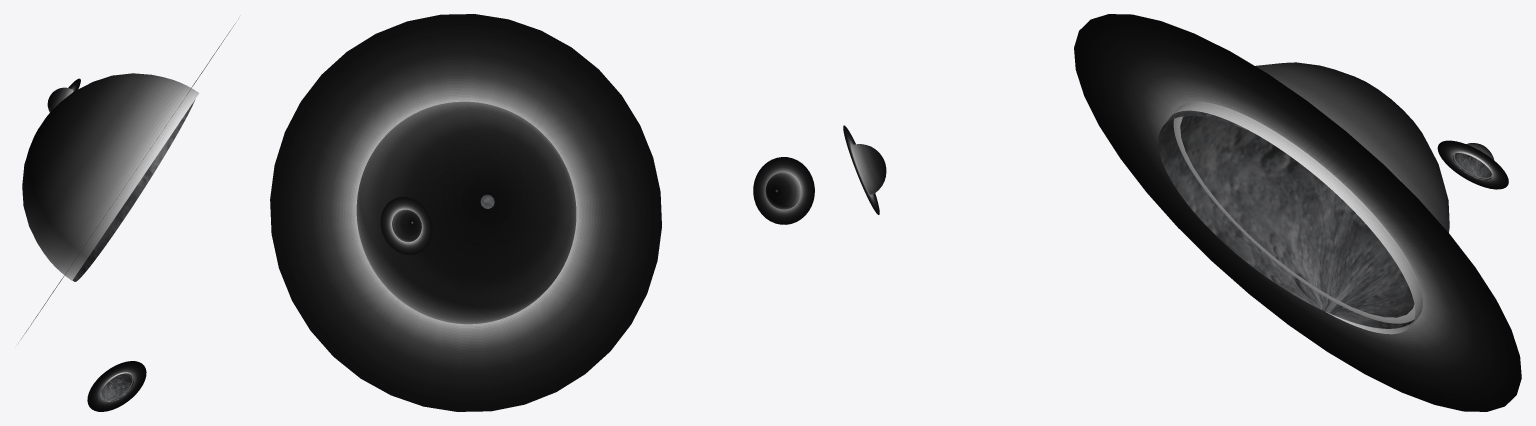
Rendered from env_space_coruscant_02_pre.glb.
The picture shows the model from 3 angles, left to right: view 1: azimuth 30°, elevation 25°; view 2: azimuth 150°, elevation 25°; view 3: azimuth 270°, elevation 25°; orthographic projection. The views are drawn at different scales.
Visible parts, largest first — view 1: planet_fresnel_mesh (×2), planet_body_mesh (×2), planet_glow_mesh; view 2: planet_glow_mesh (×3), planet_fresnel_mesh (×3); view 3: planet_glow_mesh (×2), planet_body_mesh (×2), planet_fresnel_mesh (×2).
Part boxes in pixels (bbox=[...]): planet_fresnel_mesh (×2): bbox=[22, 73, 199, 280]; planet_body_mesh (×2): bbox=[72, 99, 195, 401]; planet_glow_mesh: bbox=[87, 361, 146, 411]; planet_glow_mesh (×3): bbox=[270, 14, 814, 411]; planet_fresnel_mesh (×3): bbox=[356, 101, 801, 324]; planet_glow_mesh (×2): bbox=[1074, 14, 1521, 411]; planet_body_mesh (×2): bbox=[1158, 110, 1491, 328]; planet_fresnel_mesh (×2): bbox=[851, 62, 1449, 334].
Bounding box in the file's own units: 1263 × 1135 × 1570.
Materials: 3 (3 with a texture image).
